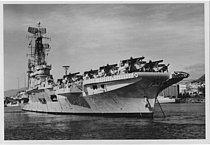MIL_Ship: (17, 20, 191, 119)
